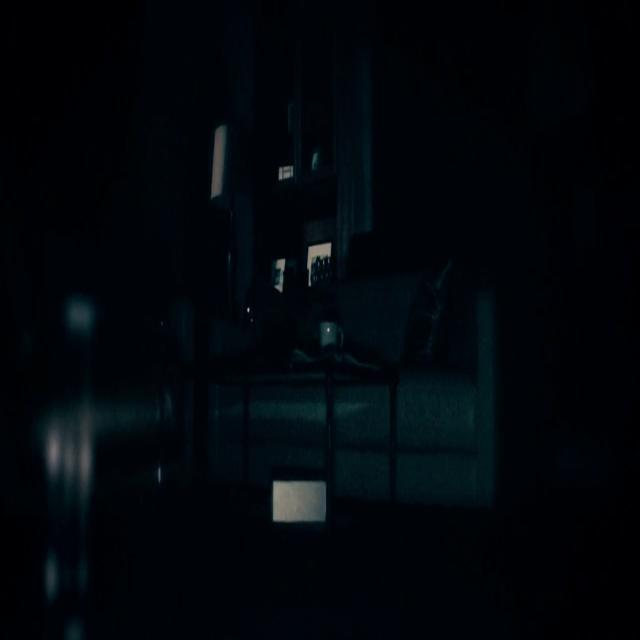Cup: (316, 303, 344, 358)
Table: (177, 350, 402, 547)
chair: (127, 250, 508, 531)
